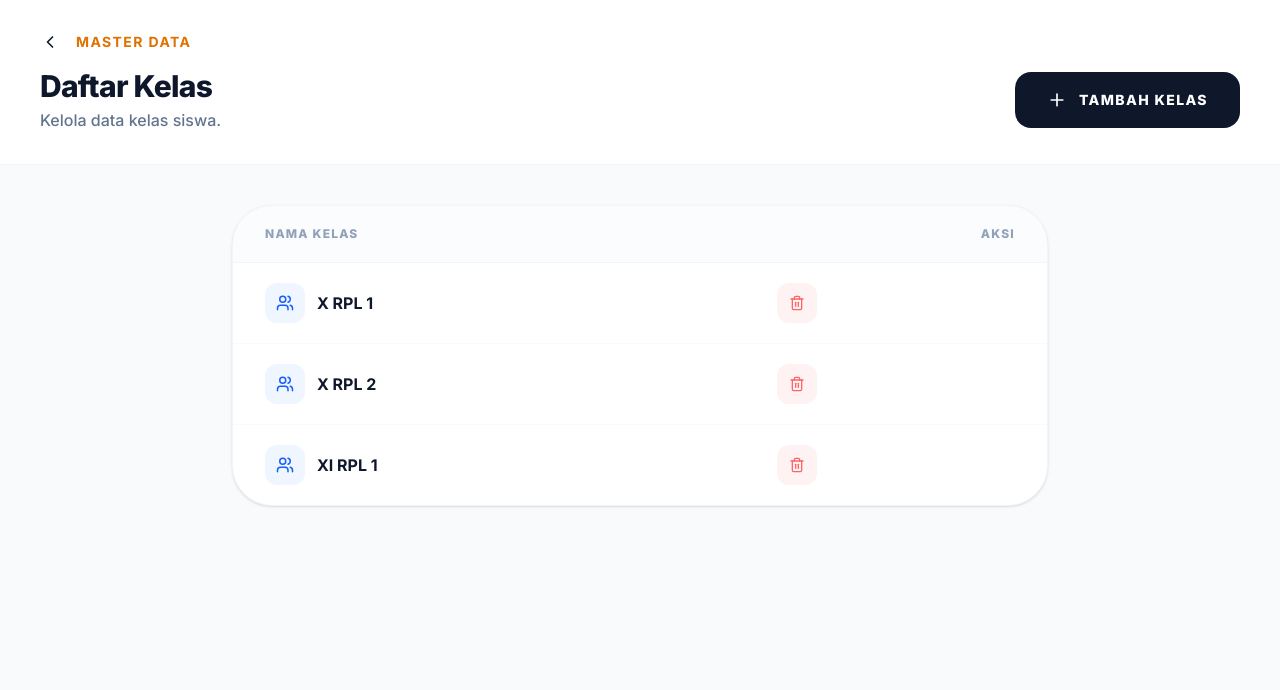
Test: ClassesClient › closes add form with X button
The image size is (1280, 690).
Click the button "Tambah Kelas" at (1127, 100), box [1015,72,1240,128]
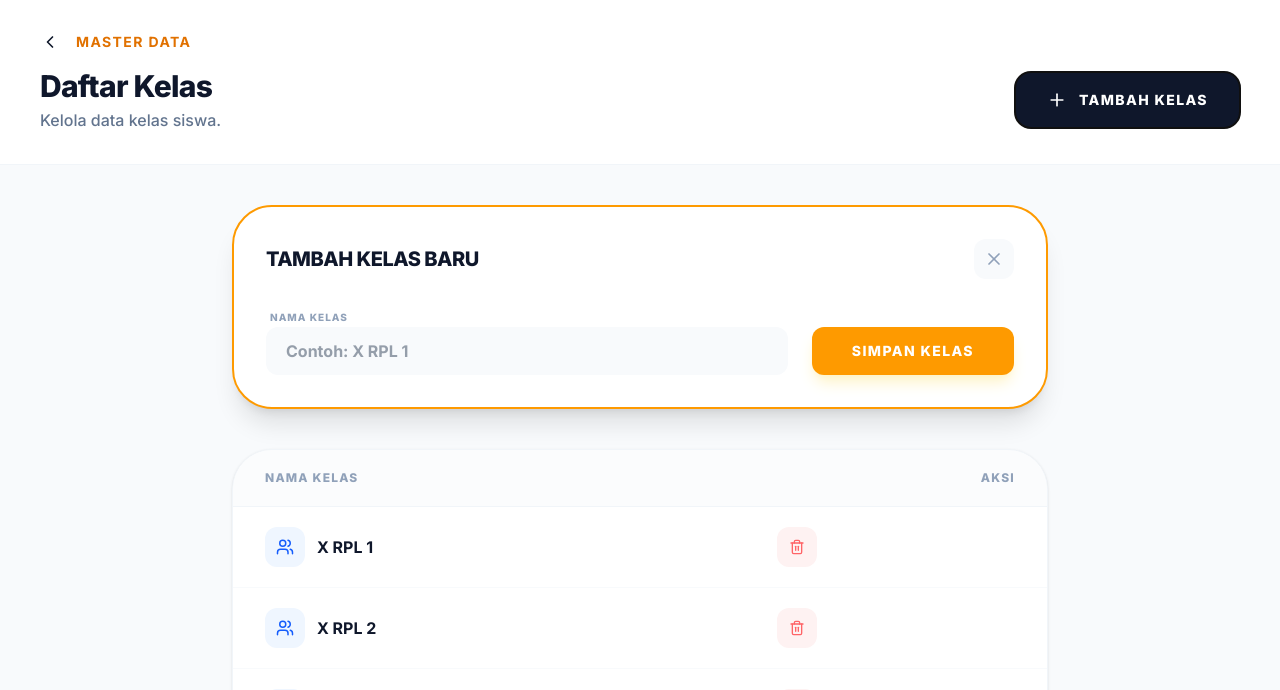
Result: the heading "Tambah Kelas Baru" is shown at [266,245,479,273]
Click the button without text in the row of "Tambah Kelas Baru" at (994, 259), box [974,239,1014,279]
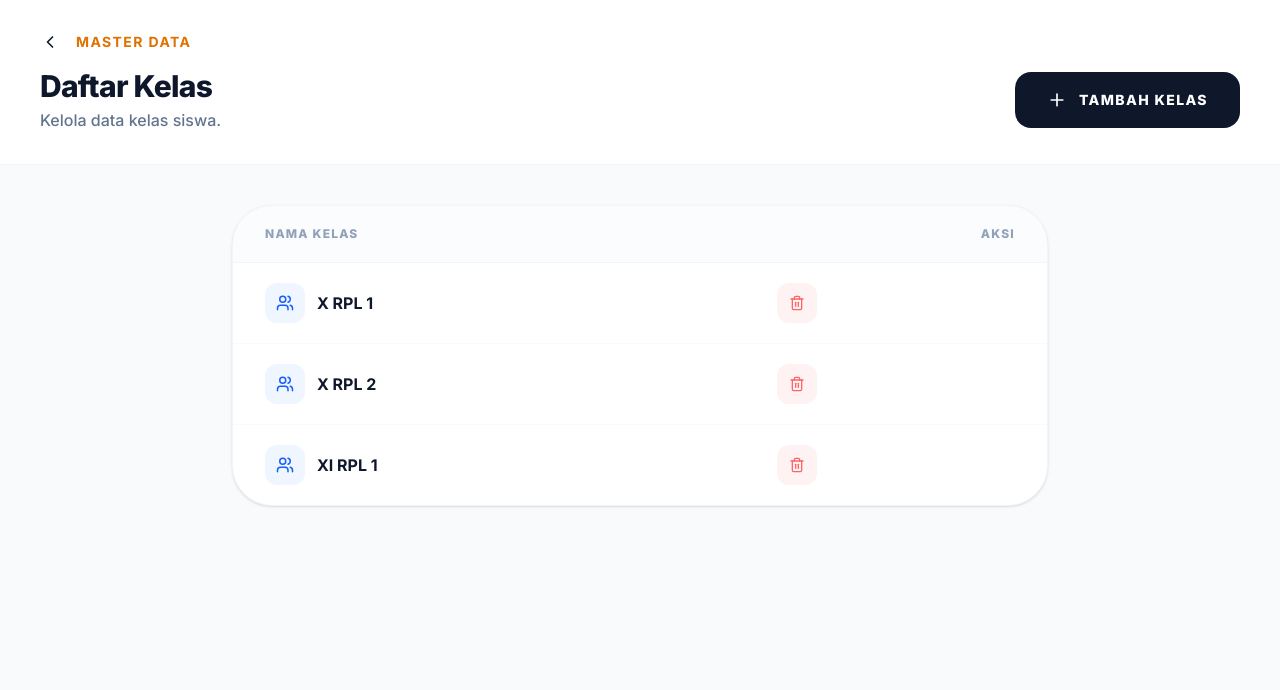
Result: the heading "Tambah Kelas Baru" is gone
